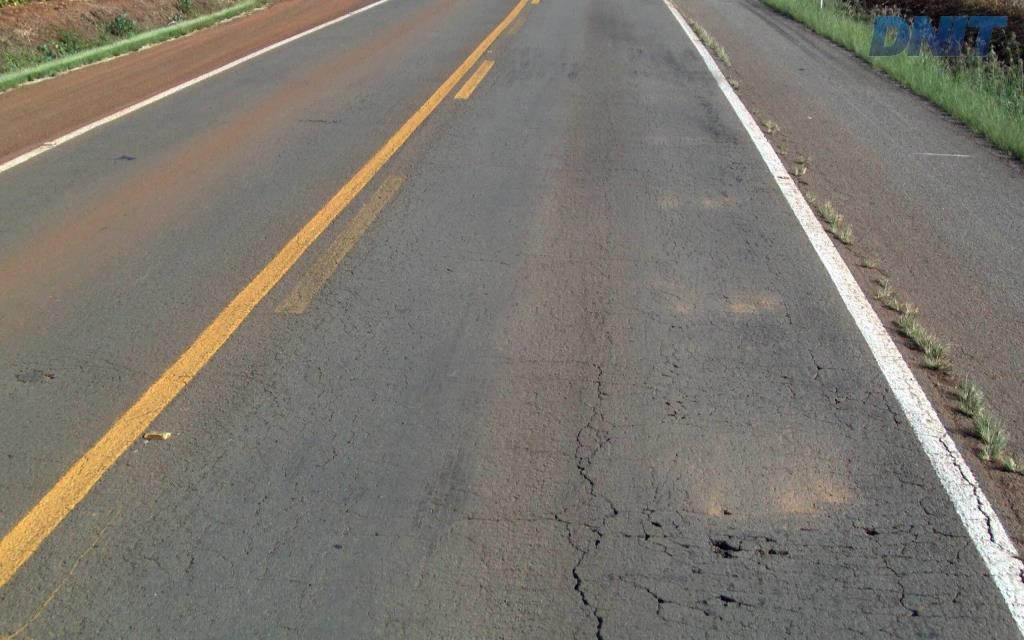crack: (550, 511, 592, 609), (708, 534, 780, 559)
